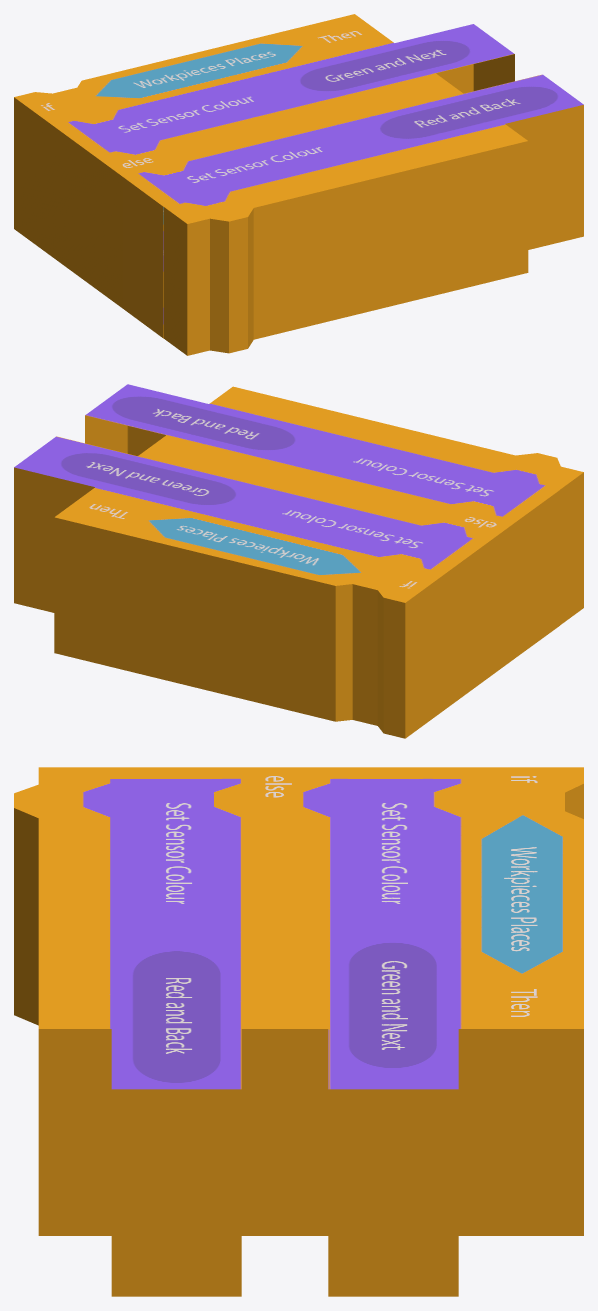
File: Sensor (2).fbx
3 views of the same model, one above another, from view 1: azimuth 30°, elevation 25°; view 2: azimuth 150°, elevation 25°; view 3: azimuth 270°, elevation 25° (orthographic). The views are drawn at different scales.
Visible parts, largest first — view 1: Curve; view 2: Curve; view 3: Curve.
Part boxes in pixels (left/top/right/bottom): Curve: left=14, top=14, right=583, bottom=355; Curve: left=14, top=384, right=583, bottom=738; Curve: left=14, top=767, right=583, bottom=1296.
Bounding box in the file's own units: 23.2 × 6.96 × 17.34.
